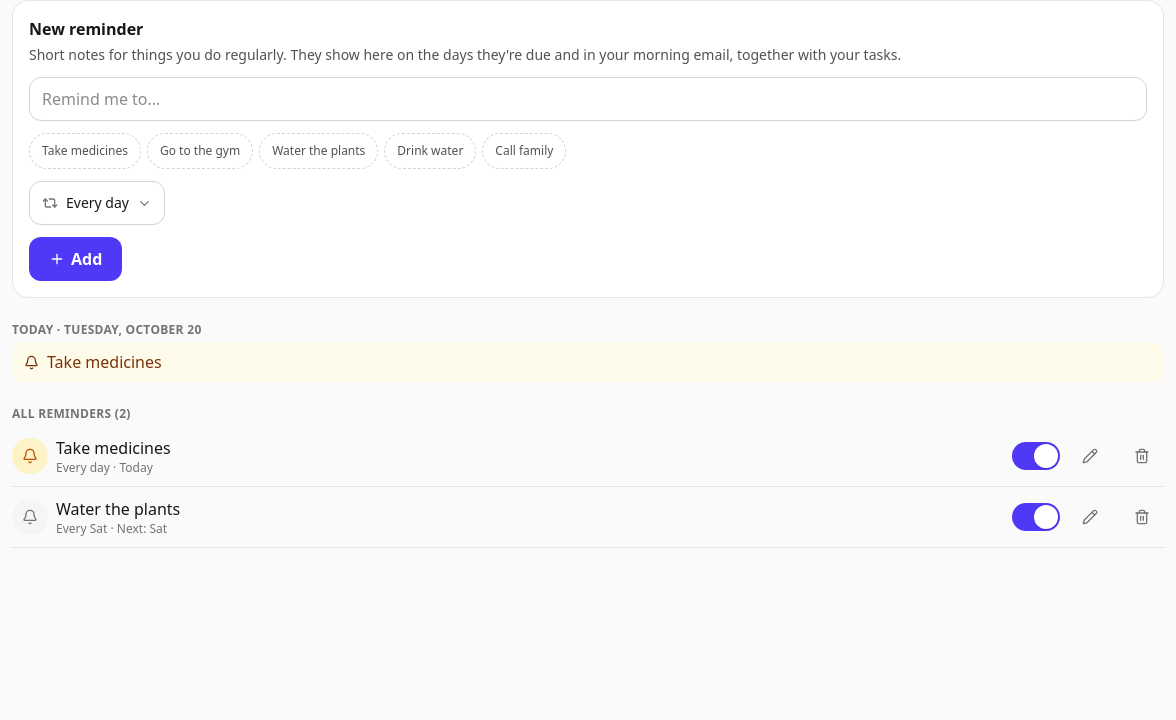
Test: RemindersPanel › adds a weekly reminder on chosen days
The width and height of the screenshot is (1176, 720).
In the field named "Reminder": (588, 99) [29,77,1147,121], type "Go to the gym"
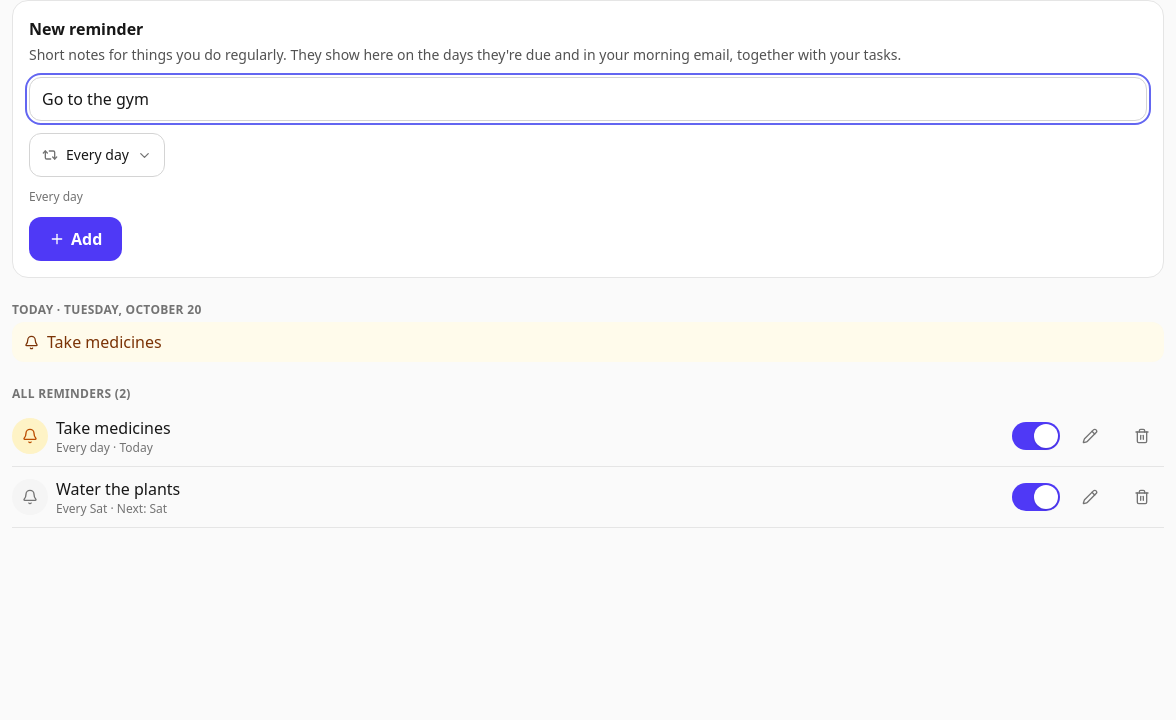
Click the button with aria-label "How often": (97, 155) [29,133,165,177]
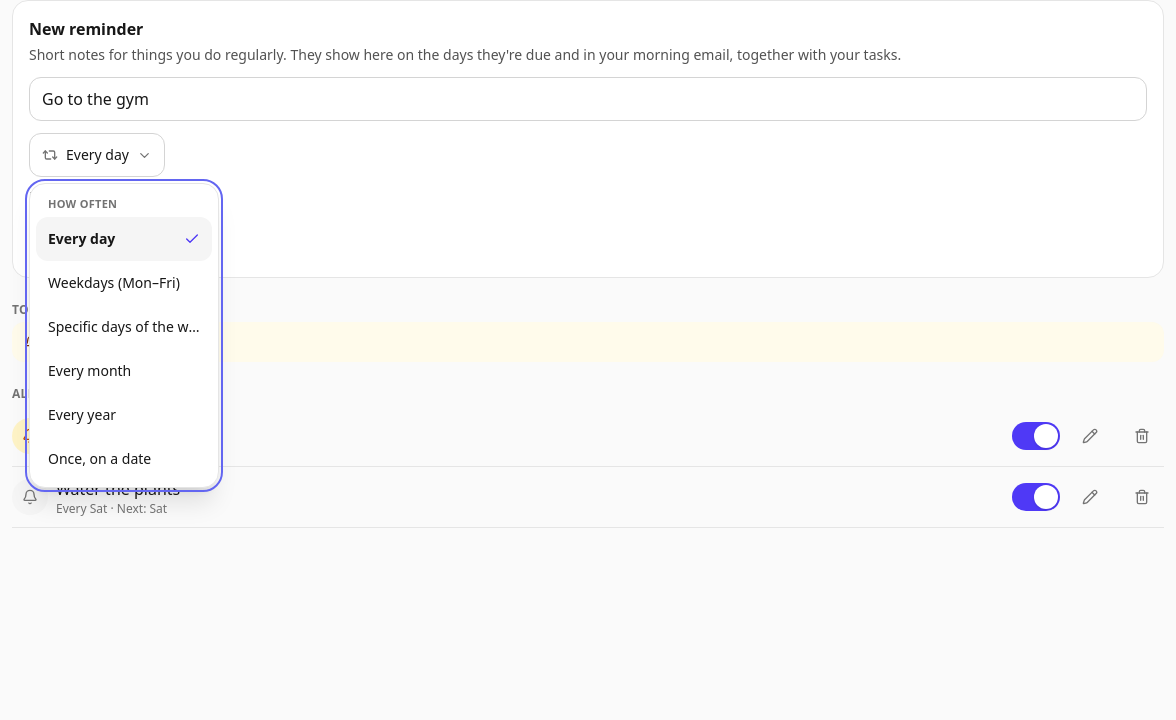
Click the option "Specific days of the week": (130, 326) [48,316,212,336]
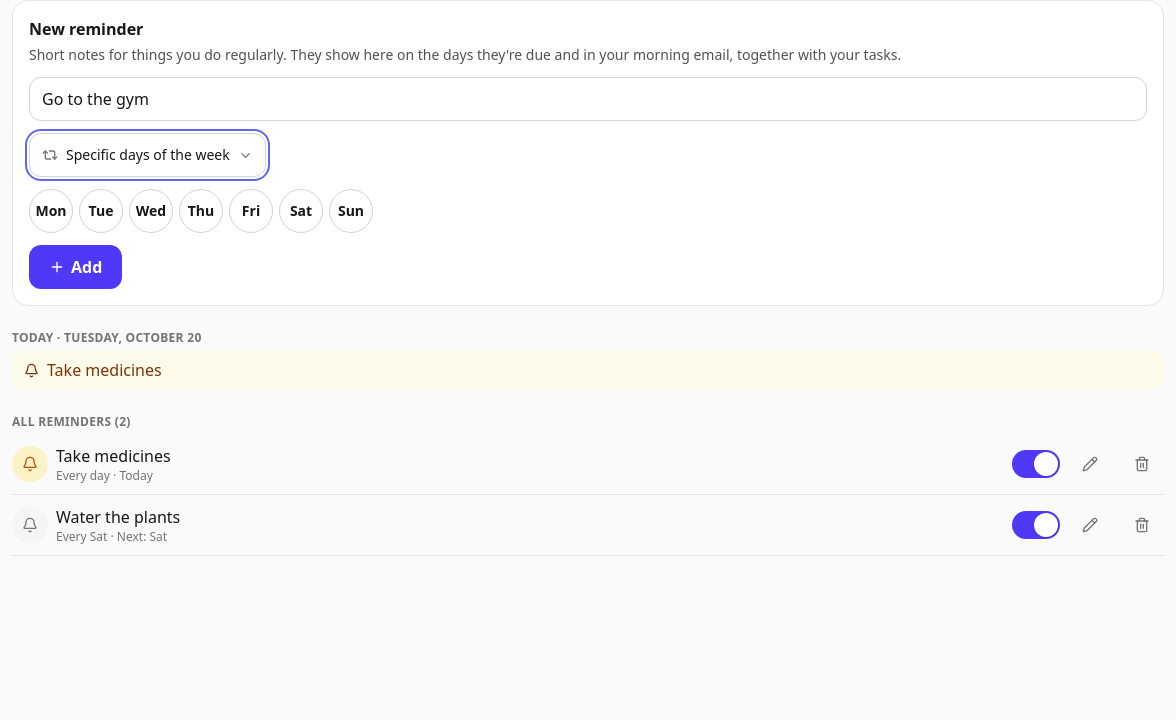
Click the button "Tue": (101, 211) [79,189,123,233]
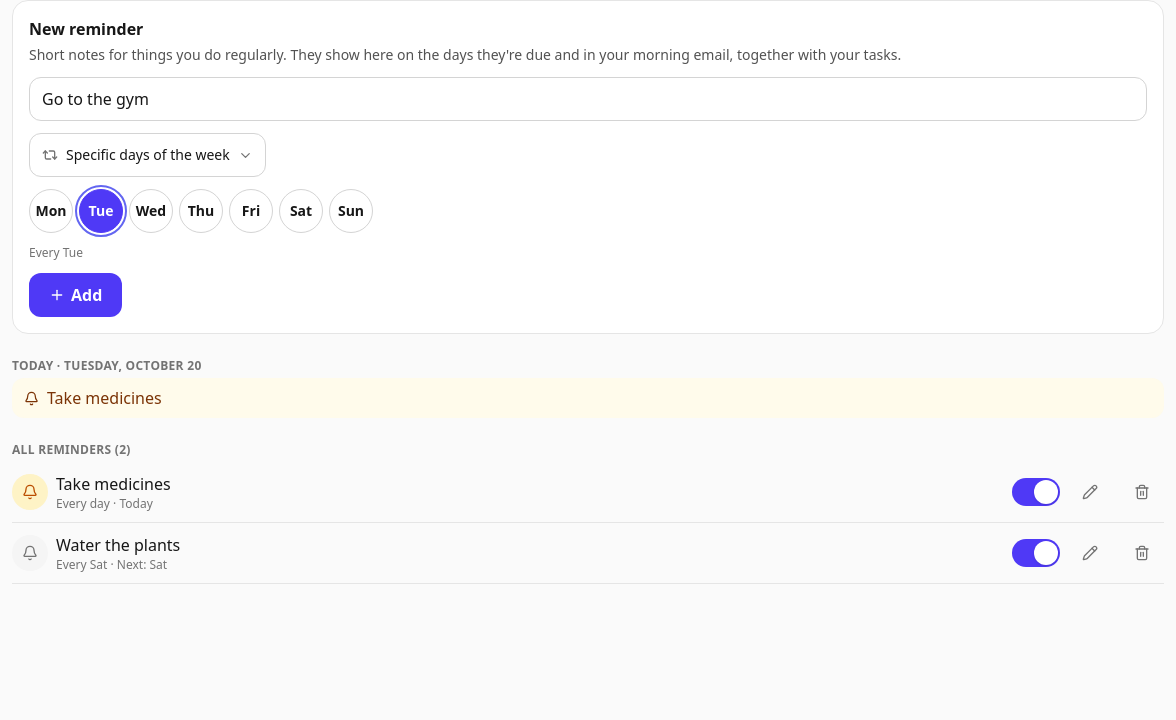
Click the button "Thu": (201, 211) [179,189,223,233]
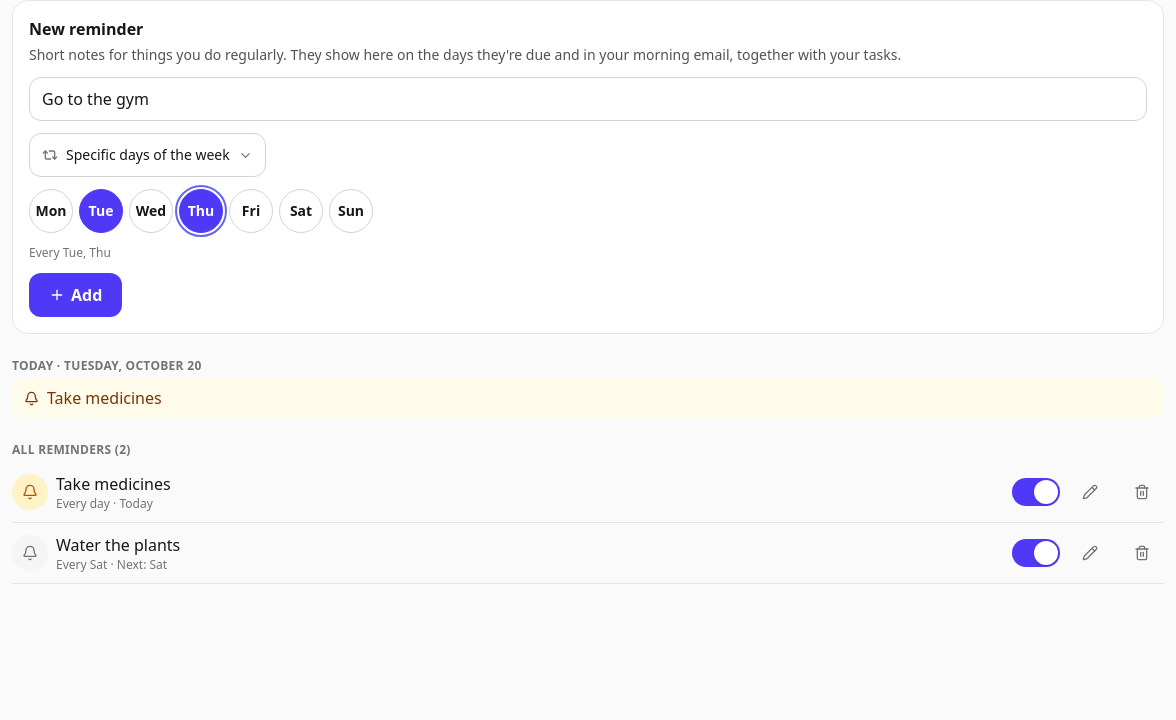
Click the button "Add": (76, 295) [29,273,122,317]
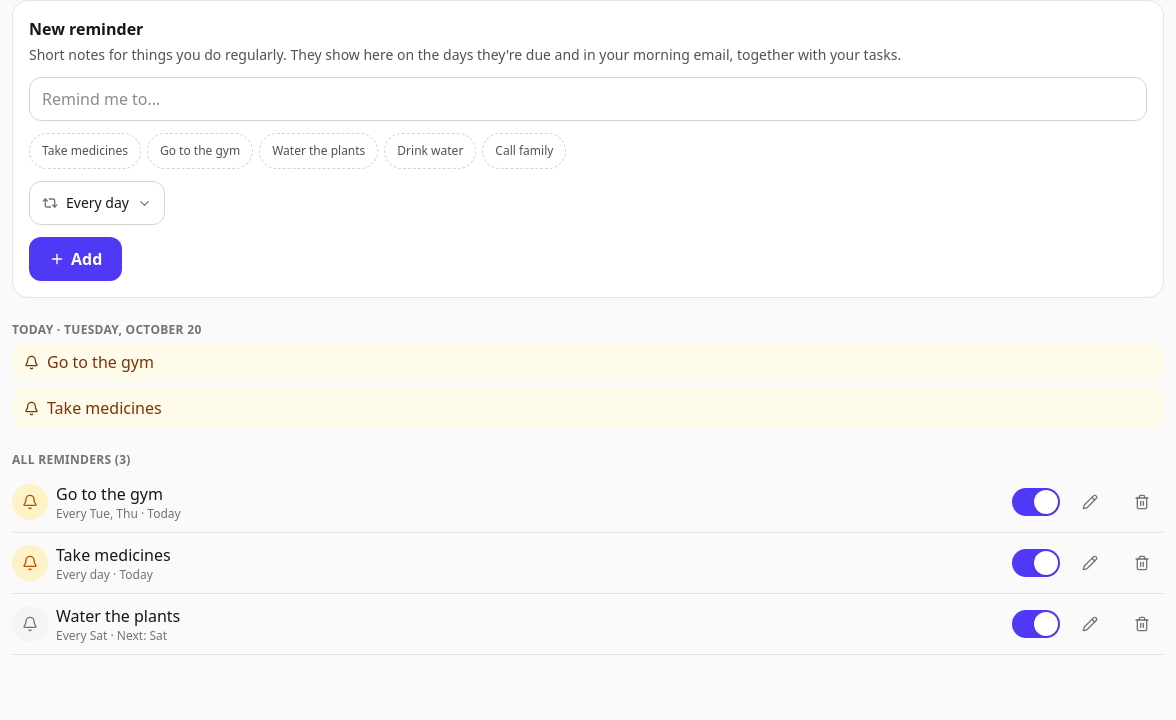
Check: the text "Go to the gym" below "Today ·" is shown, box [47,351,154,373]
Check: the field named "Reminder" is empty, box [29,77,1147,121]
